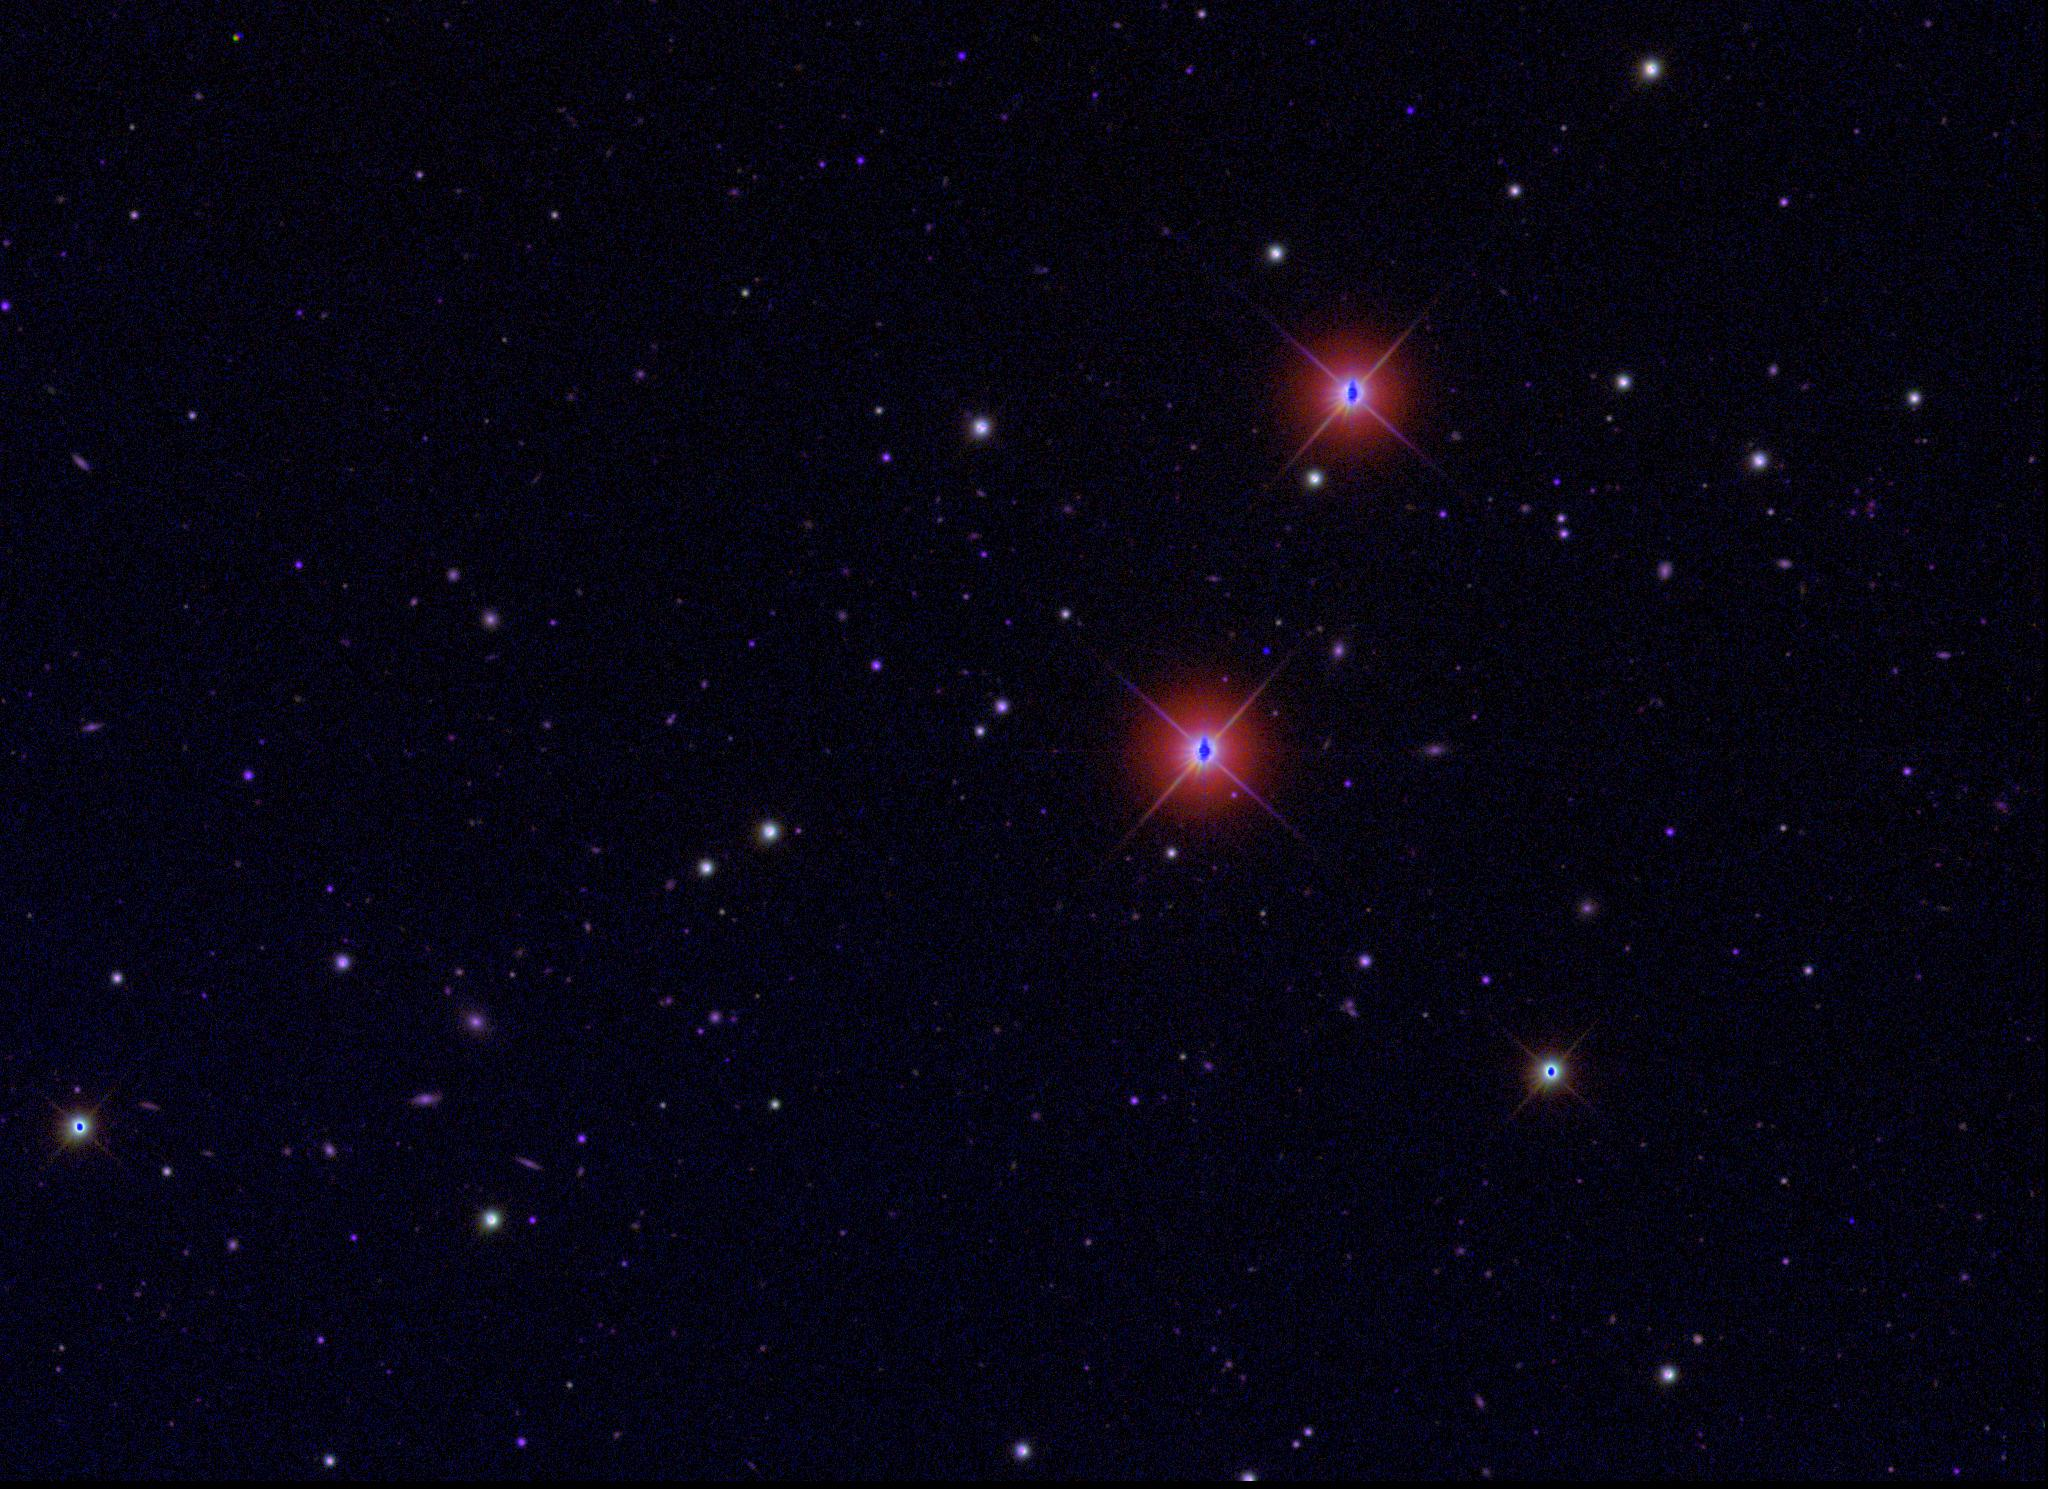L: (1259, 644, 1274, 659)
